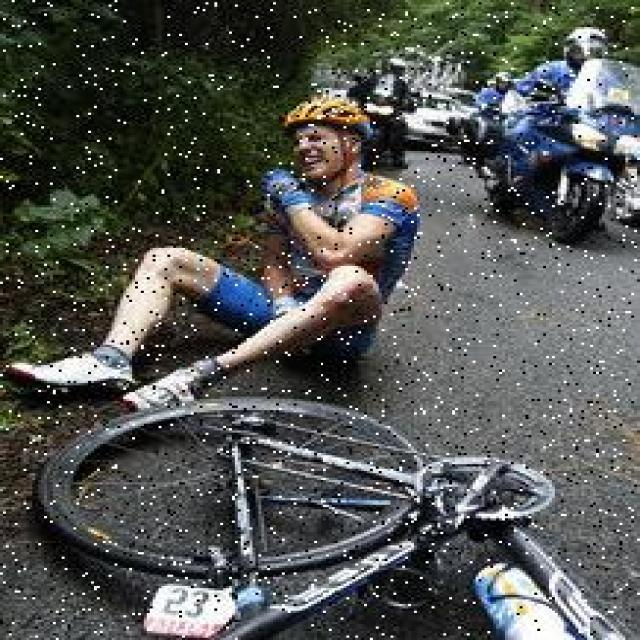fall: (68, 106, 416, 403)
